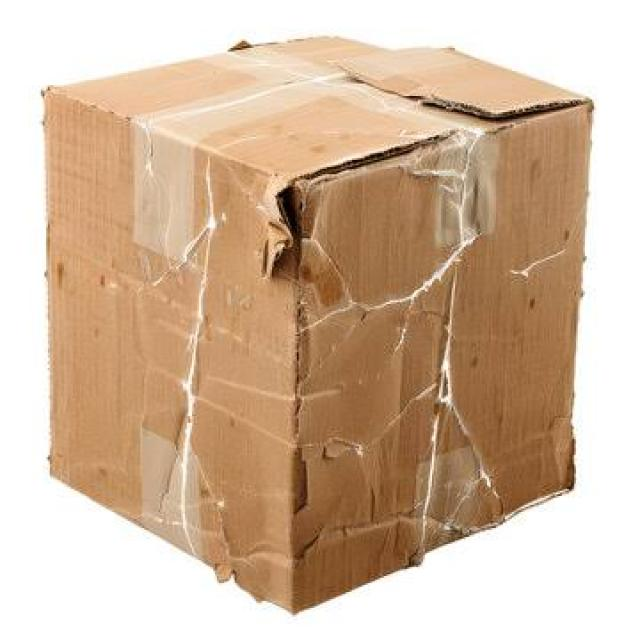cardboard: (38, 19, 615, 613)
